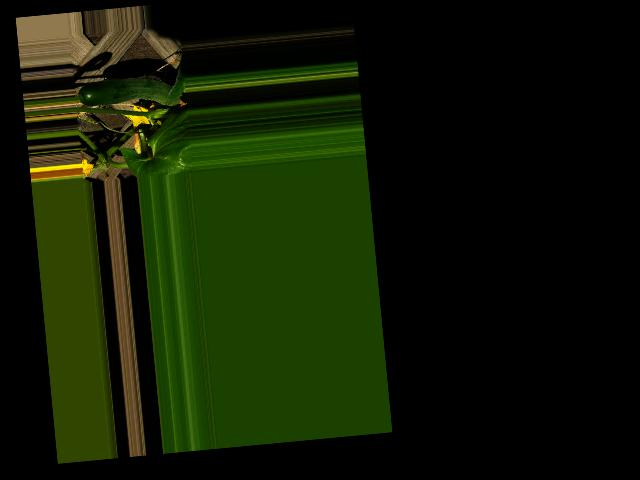cucumber: (78, 71, 186, 114)
